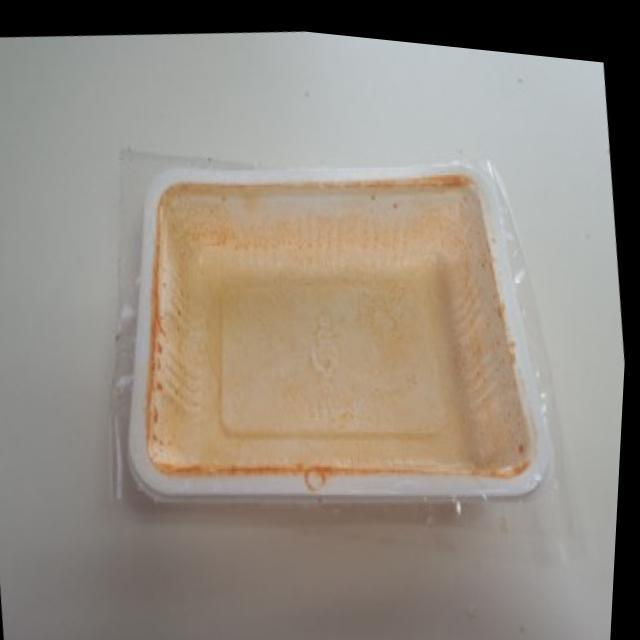bottle: (115, 129, 589, 532)
